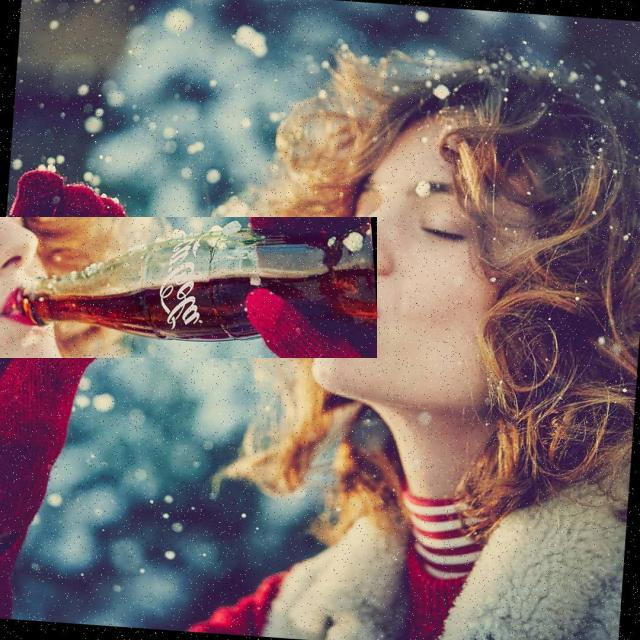coca-cola: (0, 217, 377, 358)
